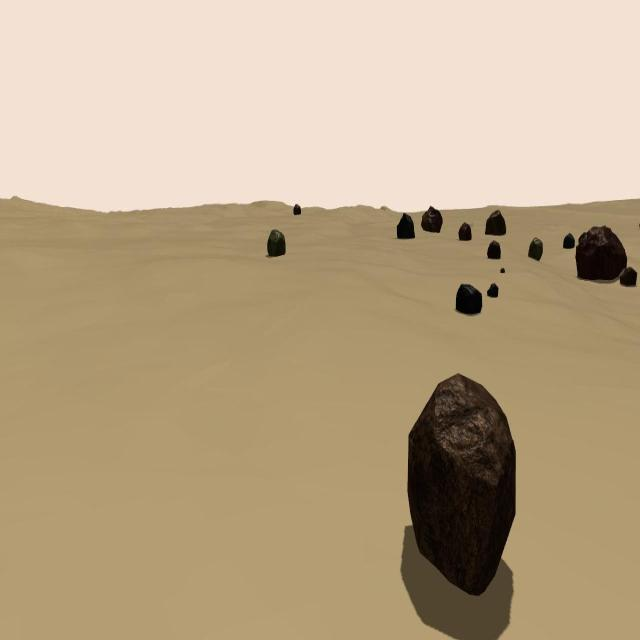rock: (408, 373, 516, 595), (576, 225, 627, 282), (456, 283, 482, 315), (421, 206, 443, 234), (267, 228, 285, 256), (397, 211, 415, 239), (486, 210, 506, 234), (528, 236, 542, 263), (621, 266, 637, 288), (458, 222, 472, 241), (487, 240, 501, 259), (563, 232, 575, 249), (486, 281, 498, 297), (578, 232, 588, 244), (294, 203, 301, 214), (501, 267, 504, 274)
